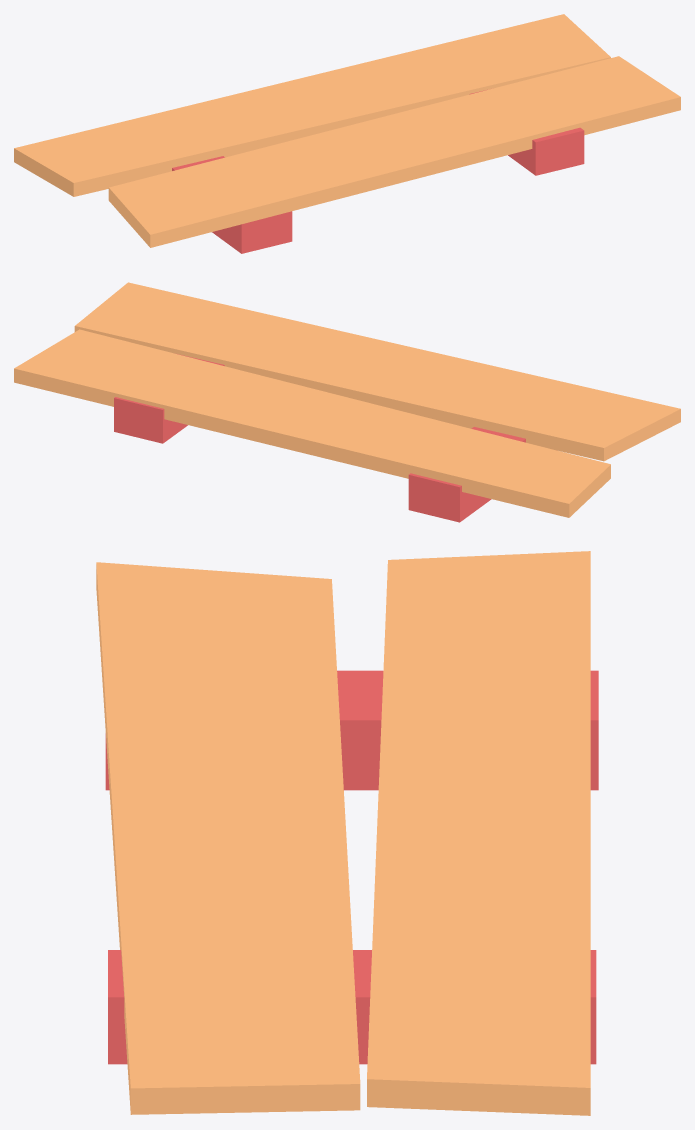
The model's file is high_path.glb.
The picture shows the model from 3 angles, top to bottom: view 1: azimuth 30°, elevation 25°; view 2: azimuth 150°, elevation 25°; view 3: azimuth 270°, elevation 25°; orthographic projection. The views are drawn at different scales.
Parts seen in each view (by area): view 1: Cubo.001, Cubo; view 2: Cubo.001, Cubo; view 3: Cubo.001, Cubo.
Part boxes in pixels (box(x1,y1,x2,y2)): Cubo.001: box(14, 14, 680, 247); Cubo: box(172, 156, 292, 253); Cubo.001: box(14, 282, 680, 517); Cubo: box(408, 427, 525, 522); Cubo.001: box(96, 551, 596, 1115); Cubo: box(105, 670, 598, 790).
Bounding box in the file's own units: 11.4 × 0.8608 × 4.49.
